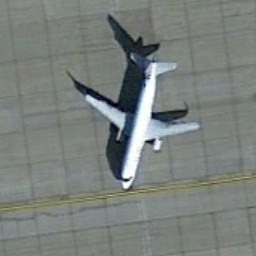Airplane: (62, 39, 220, 201)
